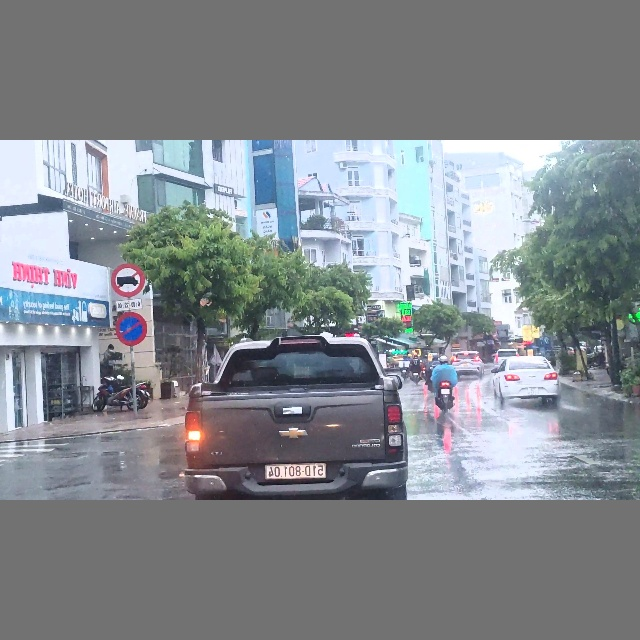P.106a*Xe tai: (110, 262, 144, 298)
P.131a: (115, 311, 147, 346)
